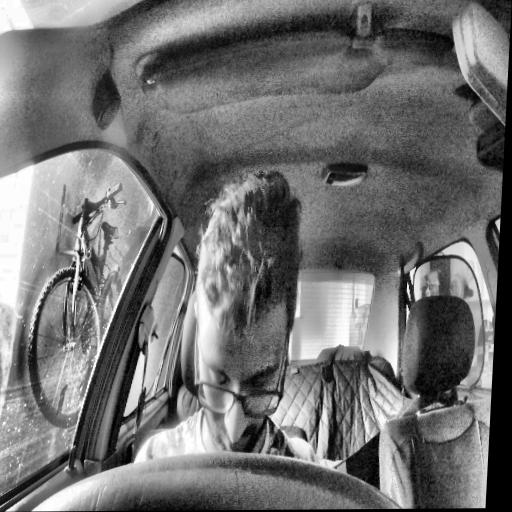drowsy: (184, 165, 306, 462)
